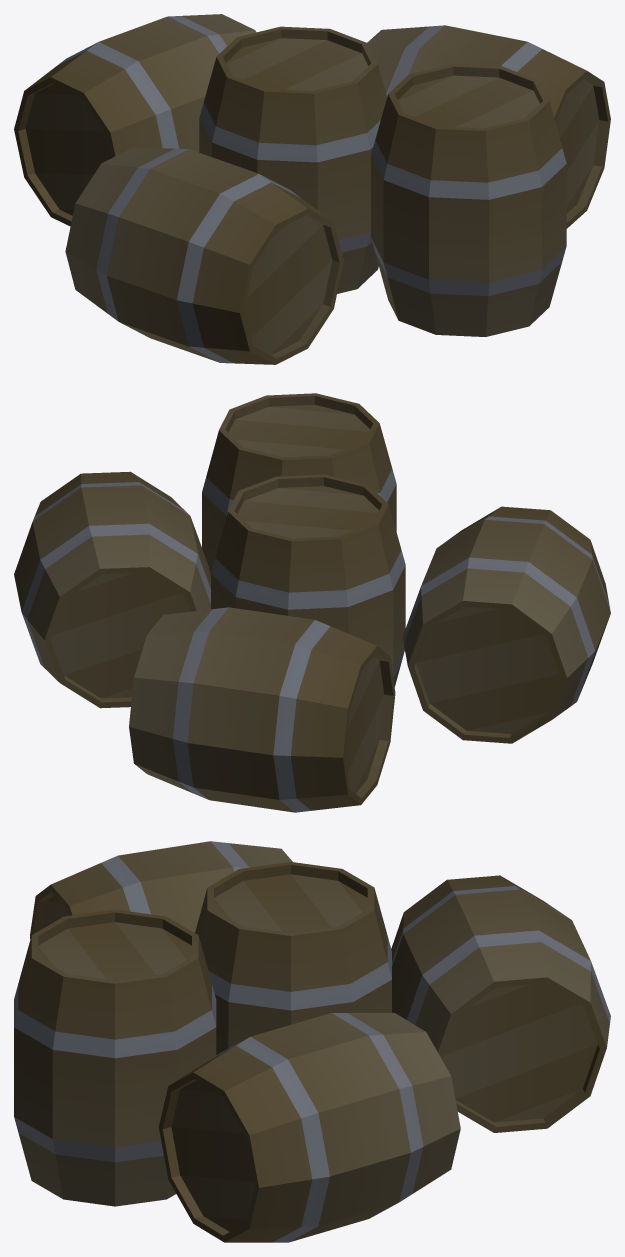
The model's file is Barrel_1E_LOD1.fbx.
3 renders of one model, top to bottom at view 1: azimuth 30°, elevation 25°; view 2: azimuth 150°, elevation 25°; view 3: azimuth 270°, elevation 25°, orthographic. The views are drawn at different scales.
Parts seen in each view (by area): view 1: polySurface9638; view 2: polySurface9638; view 3: polySurface9638.
Part boxes in pixels (box(x1,y1,x2,y2)): polySurface9638: box(14, 14, 610, 364); polySurface9638: box(14, 393, 610, 812); polySurface9638: box(14, 841, 610, 1242).
Size of the model in its own units: 465 by 168 by 408.
